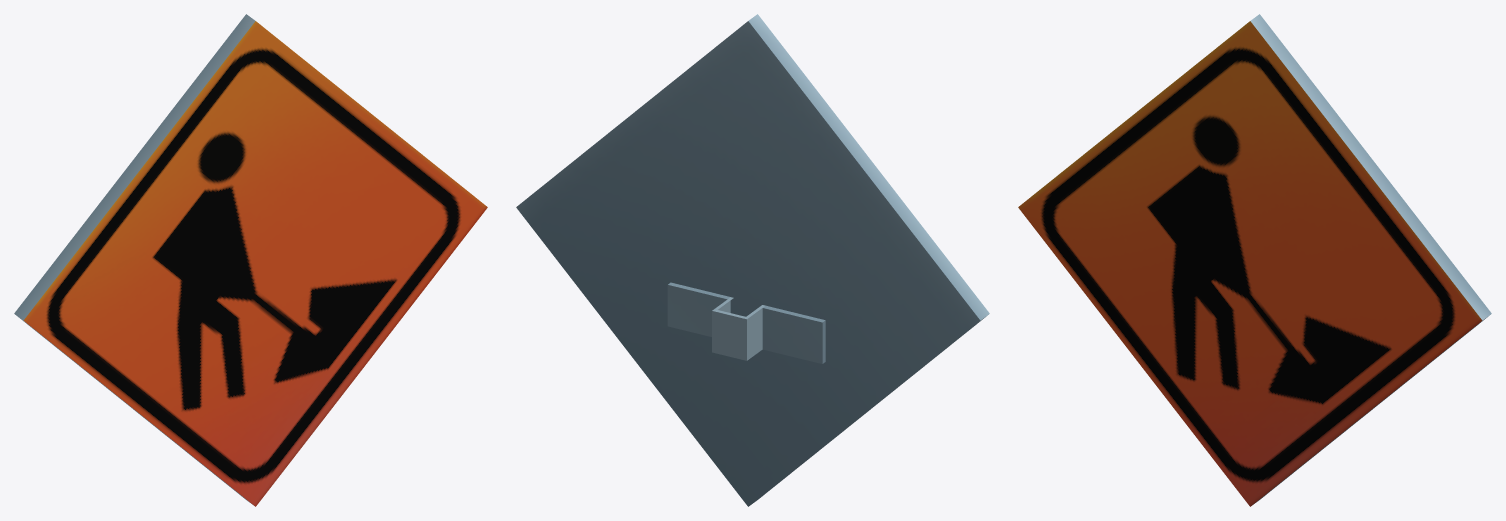
The model's file is Sign11.fbx.
3 views of the same model, side by side, from view 1: azimuth 30°, elevation 25°; view 2: azimuth 150°, elevation 25°; view 3: azimuth 330°, elevation 25° (orthographic).
Visible parts, largest first — view 1: Sign11; view 2: Sign11; view 3: Sign11.
Boxes of the visible parts, box(x1,y1,x2,y2) form: Sign11: box(14, 14, 487, 506); Sign11: box(516, 14, 989, 506); Sign11: box(1018, 14, 1491, 506).
Size of the model in its own units: 1.41 by 0.1489 by 1.41.
